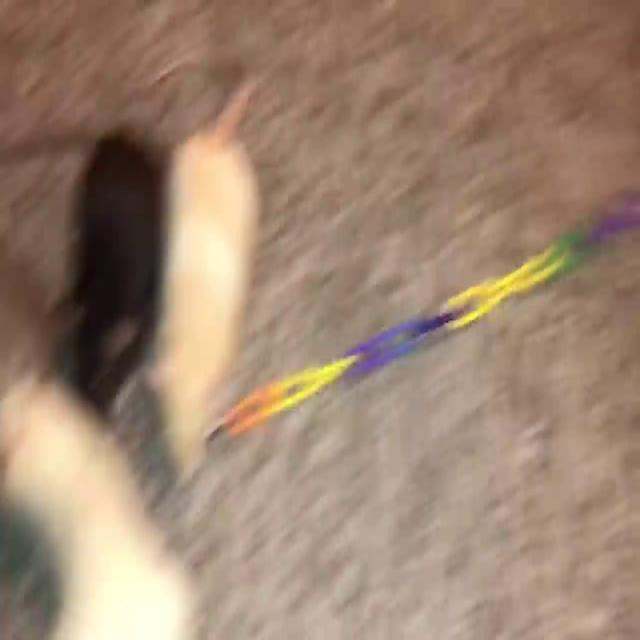rat: (162, 63, 262, 476), (73, 128, 159, 409)
